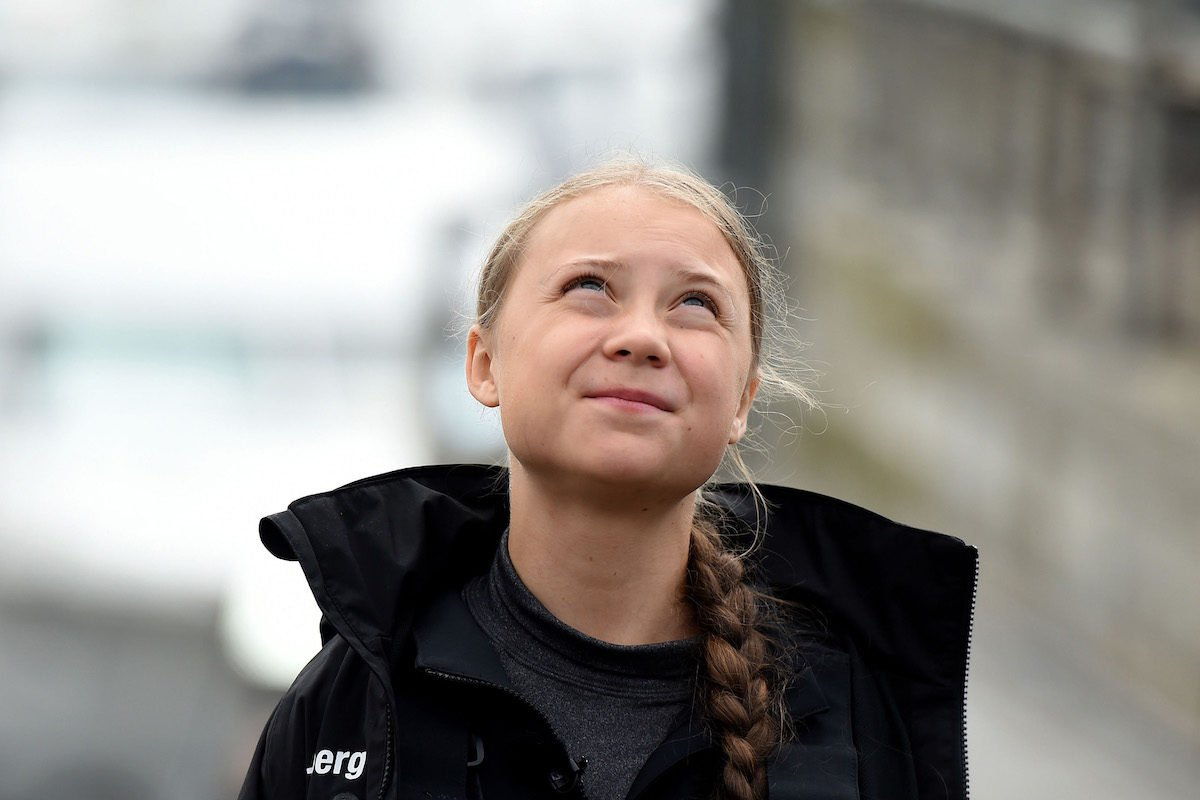noMask: (442, 144, 776, 516)
